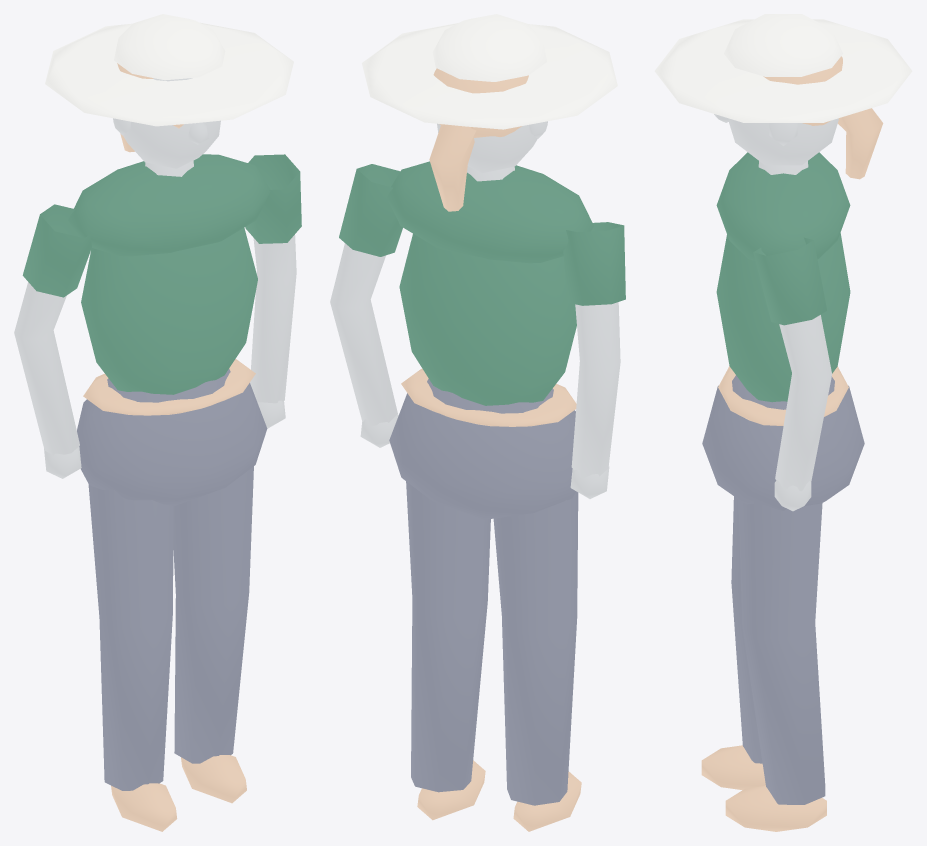
Rendered from Blender_Spectator_2.glb.
3 renders of one model, left to right at view 1: azimuth 30°, elevation 25°; view 2: azimuth 150°, elevation 25°; view 3: azimuth 270°, elevation 25°, orthographic. The views are drawn at different scales.
Visible parts, largest first — view 1: Blender_Spectator_2; view 2: Blender_Spectator_2; view 3: Blender_Spectator_2.
Part boxes in pixels (x1,y1,x2,y2): Blender_Spectator_2: (14,14,301,831); Blender_Spectator_2: (330,14,625,831); Blender_Spectator_2: (654,14,912,831).
Size of the model in its own units: 0.6676 by 1.83 by 0.54.
